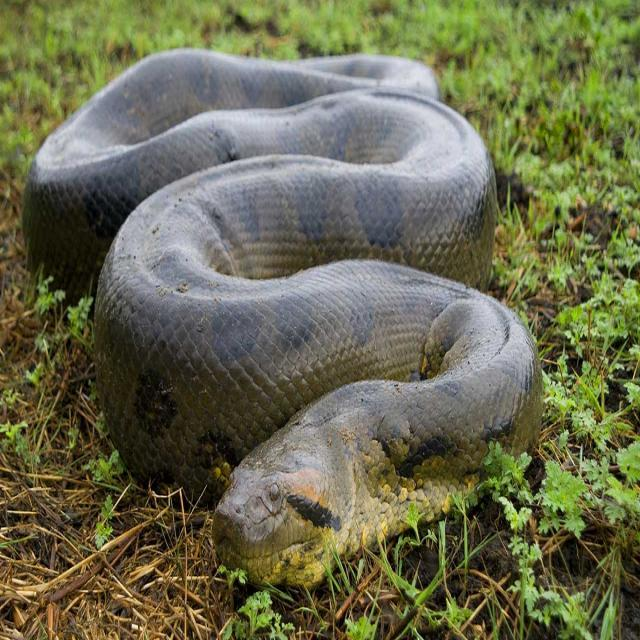Snake: (16, 0, 552, 624)
